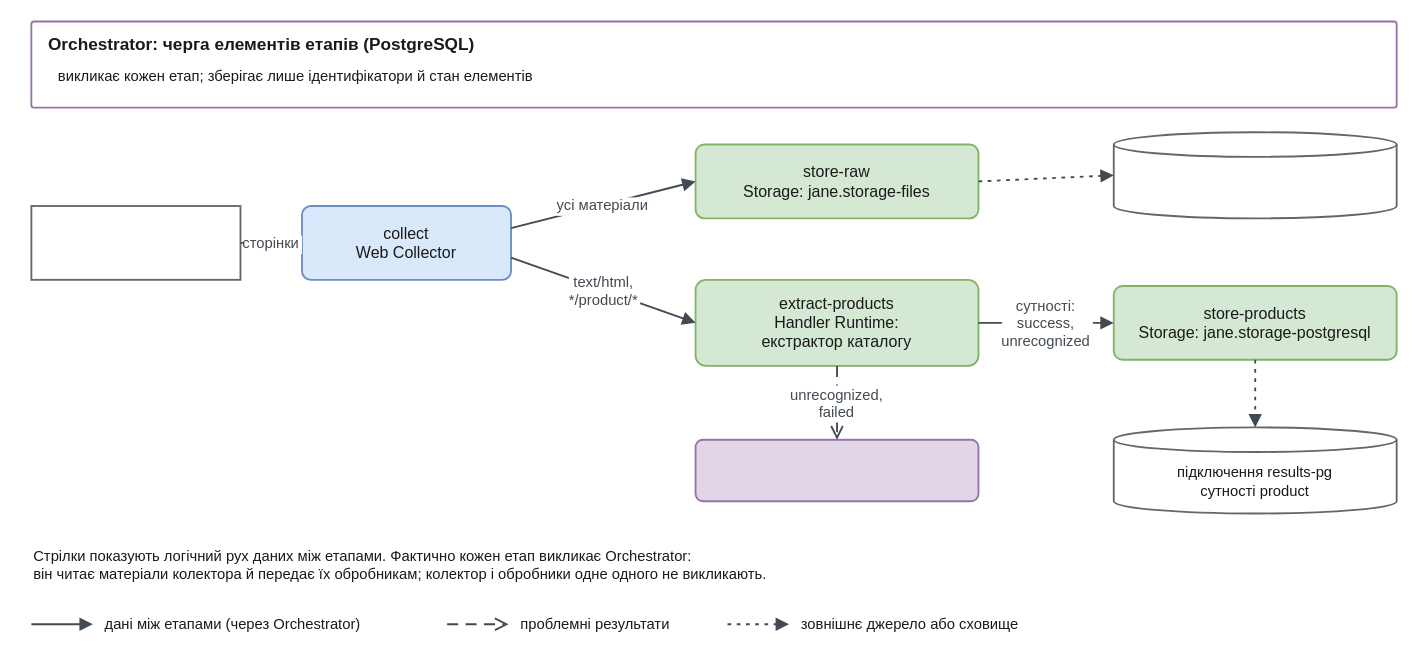
This 1419x659 diagram has some shape labels left out. The shapes that lost their labels are listed below. From the top down, each one's centre as x and y in pixels, then its label:
[1254,175]: підключення raw-files файли HTML
[135,242]: Джерело http://testsite:8080
[836,470]: групи проблем, невідомі матеріали
